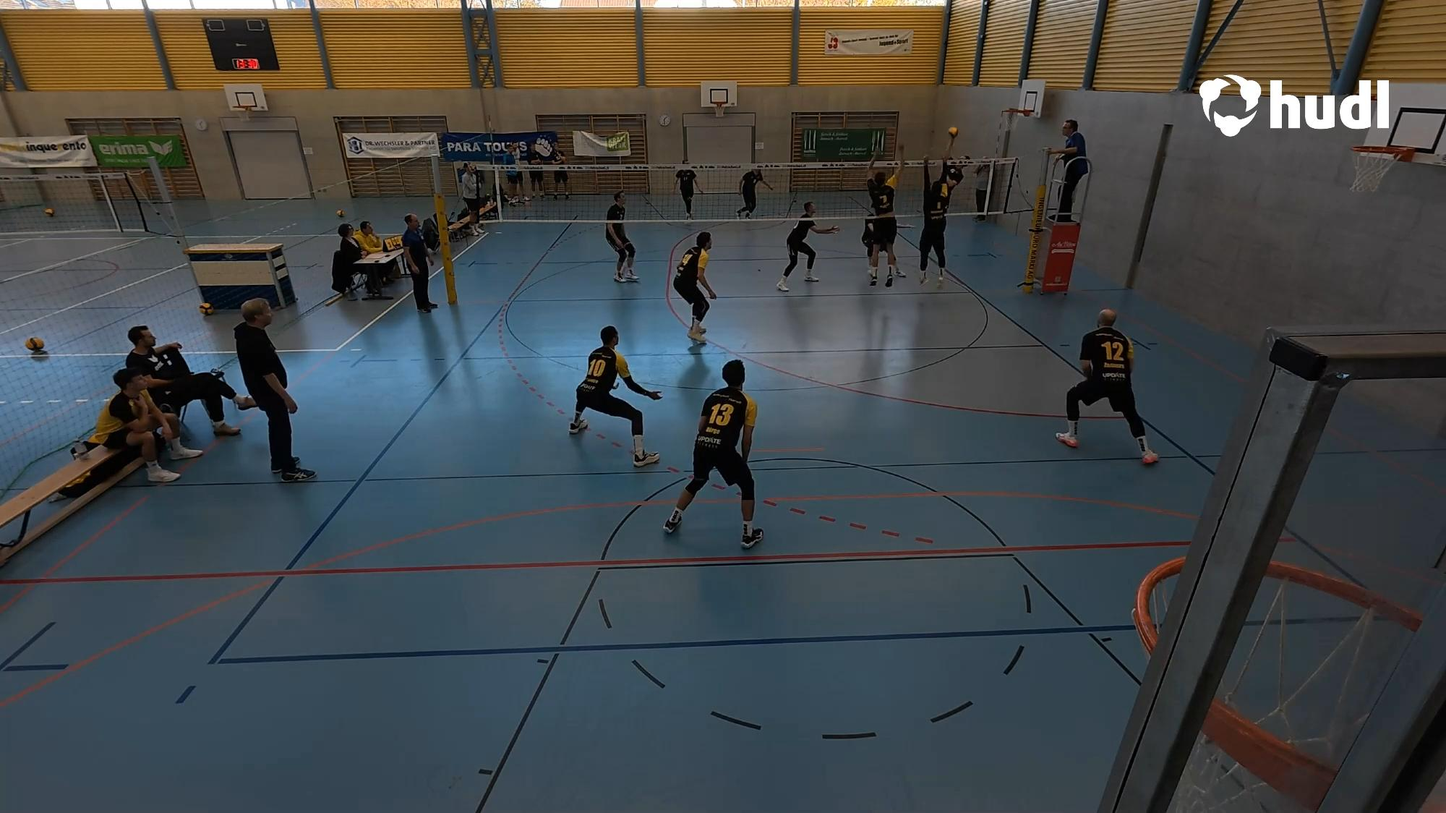attacco: (937, 123, 970, 200)
muro: (915, 150, 960, 291), (861, 148, 906, 284)
